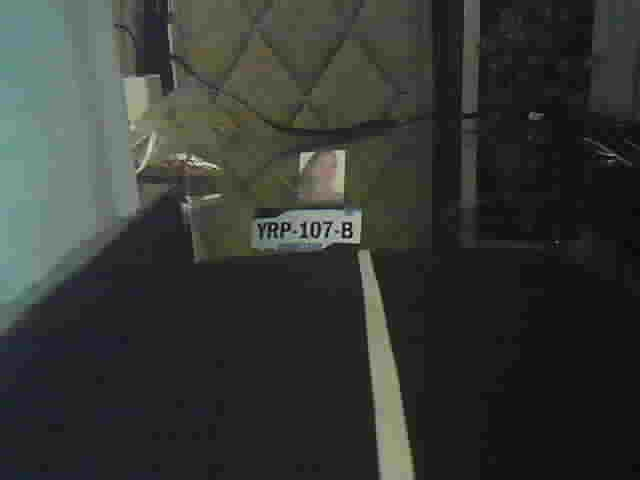PLACA: (249, 205, 365, 253)
ROSTRO: (299, 152, 346, 202)
